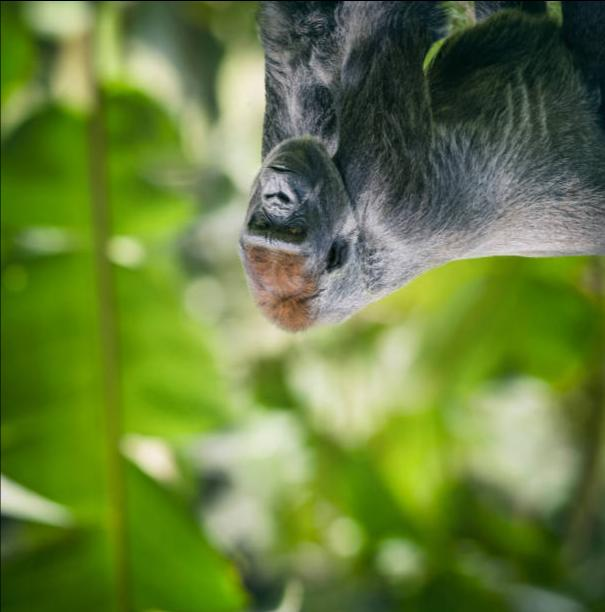gorille_Autres: (236, 0, 582, 330)
